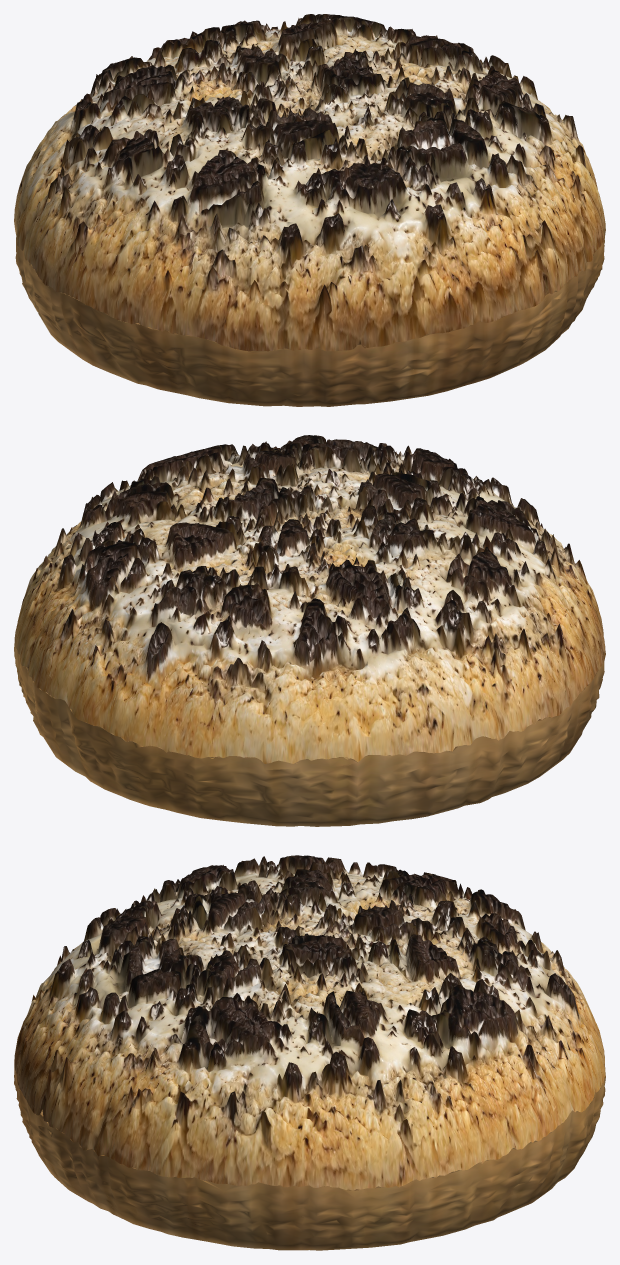
The model's file is cookie-cookies-cream.glb.
The picture shows the model from 3 angles, top to bottom: view 1: azimuth 30°, elevation 25°; view 2: azimuth 150°, elevation 25°; view 3: azimuth 270°, elevation 25°; orthographic projection.
Parts seen in each view (by area): view 1: base | V3 | Photographic sculpt | cookies-cream.001, base | V3 | Craggy baked edge | cookies-cream.001; view 2: base | V3 | Photographic sculpt | cookies-cream.001, base | V3 | Craggy baked edge | cookies-cream.001; view 3: base | V3 | Photographic sculpt | cookies-cream.001, base | V3 | Craggy baked edge | cookies-cream.001.
Boxes of the visible parts, x1,y1,x2,y2 form: base | V3 | Photographic sculpt | cookies-cream.001: (14, 14, 605, 351); base | V3 | Craggy baked edge | cookies-cream.001: (14, 96, 605, 406); base | V3 | Photographic sculpt | cookies-cream.001: (14, 435, 605, 763); base | V3 | Craggy baked edge | cookies-cream.001: (14, 621, 605, 826); base | V3 | Photographic sculpt | cookies-cream.001: (14, 855, 605, 1190); base | V3 | Craggy baked edge | cookies-cream.001: (14, 1055, 605, 1250).
Bounding box in the file's own units: 0.069 × 0.0272 × 0.0684.
Materials: 2 (2 with a texture image).
